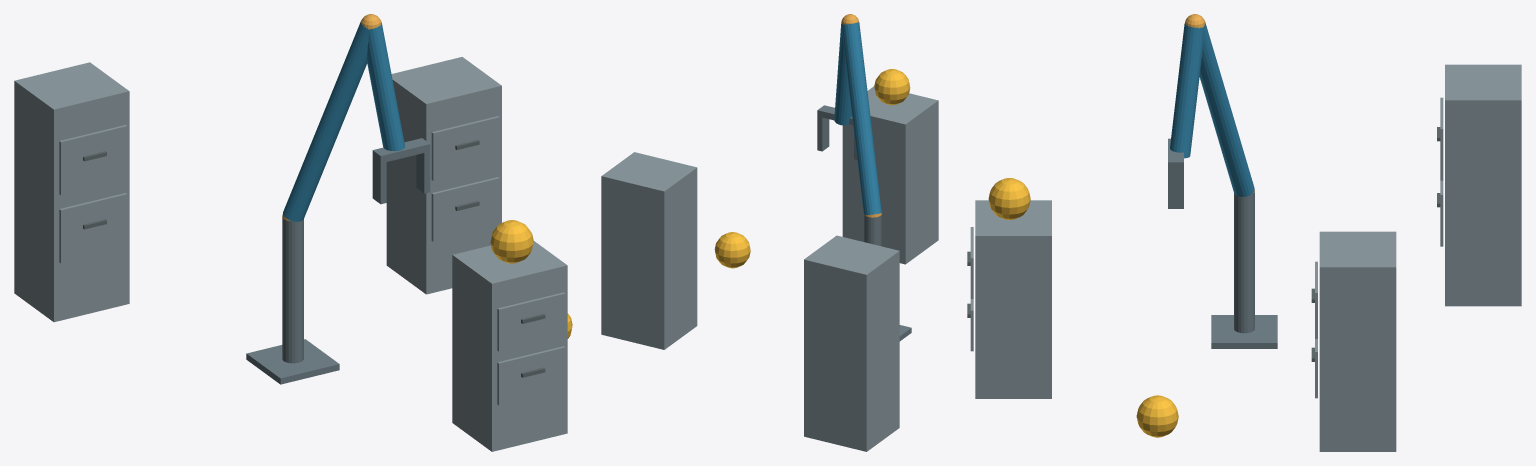
3 renders of one model, left to right at view 1: azimuth 30°, elevation 25°; view 2: azimuth 150°, elevation 25°; view 3: azimuth 270°, elevation 25°, orthographic. The views are drawn at different scales.
Visible parts, largest first — view 1: cabinet_3 body, cabinet_1 body, cabinet_2 body, moving link 1, cabinet_3 drawer front.001, cabinet_3 drawer front, cabinet_2 drawer front, cabinet_2 drawer front.001, fixed post, cabinet_1 drawer front, cabinet_1 drawer front.001, moving link 2 (+5 smaller); view 2: cabinet_3 body, cabinet_2 body, cabinet_1 body, moving link 1, ball ball_2, released ball_1, moving link 2, fixed post, gripper finger 1; view 3: cabinet_3 body, cabinet_2 body, cabinet_1 body, moving link 1, fixed post, moving link 2, pedestal, ball ball_2, released ball_1, gripper finger 1.
Part boxes in pixels (x1=…): cabinet_3 body: x1=14, y1=62, x2=129, y2=322; cabinet_1 body: x1=452, y1=241, x2=567, y2=451; cabinet_2 body: x1=386, y1=57, x2=501, y2=294; moving link 1: x1=283, y1=21, x2=369, y2=221; cabinet_3 drawer front.001: x1=59, y1=125, x2=127, y2=195; cabinet_3 drawer front: x1=59, y1=193, x2=127, y2=263; cabinet_2 drawer front: x1=431, y1=177, x2=499, y2=241; cabinet_2 drawer front.001: x1=431, y1=116, x2=499, y2=180; fixed post: x1=282, y1=218, x2=303, y2=363; cabinet_1 drawer front: x1=497, y1=346, x2=565, y2=405; cabinet_1 drawer front.001: x1=497, y1=292, x2=565, y2=351; moving link 2: x1=367, y1=23, x2=404, y2=150; cabinet_3 body: x1=804, y1=235, x2=899, y2=451; cabinet_2 body: x1=601, y1=152, x2=697, y2=349; cabinet_1 body: x1=842, y1=86, x2=938, y2=264; moving link 1: x1=841, y1=22, x2=881, y2=214; ball ball_2: x1=714, y1=232, x2=750, y2=268; released ball_1: x1=874, y1=69, x2=910, y2=105; moving link 2: x1=834, y1=23, x2=852, y2=125; fixed post: x1=864, y1=214, x2=881, y2=246; gripper finger 1: x1=817, y1=116, x2=829, y2=151; cabinet_3 body: x1=1445, y1=64, x2=1521, y2=306; cabinet_2 body: x1=1319, y1=231, x2=1396, y2=451; cabinet_1 body: x1=975, y1=200, x2=1051, y2=398; moving link 1: x1=1199, y1=21, x2=1254, y2=196; fixed post: x1=1234, y1=192, x2=1254, y2=333; moving link 2: x1=1170, y1=24, x2=1203, y2=158; pedestal: x1=1211, y1=315, x2=1277, y2=348; ball ball_2: x1=1136, y1=395, x2=1178, y2=437; released ball_1: x1=988, y1=178, x2=1030, y2=219; gripper finger 1: x1=1168, y1=169, x2=1183, y2=208.
Size of the model in its own units: 1.62 by 1.44 by 2.1.
